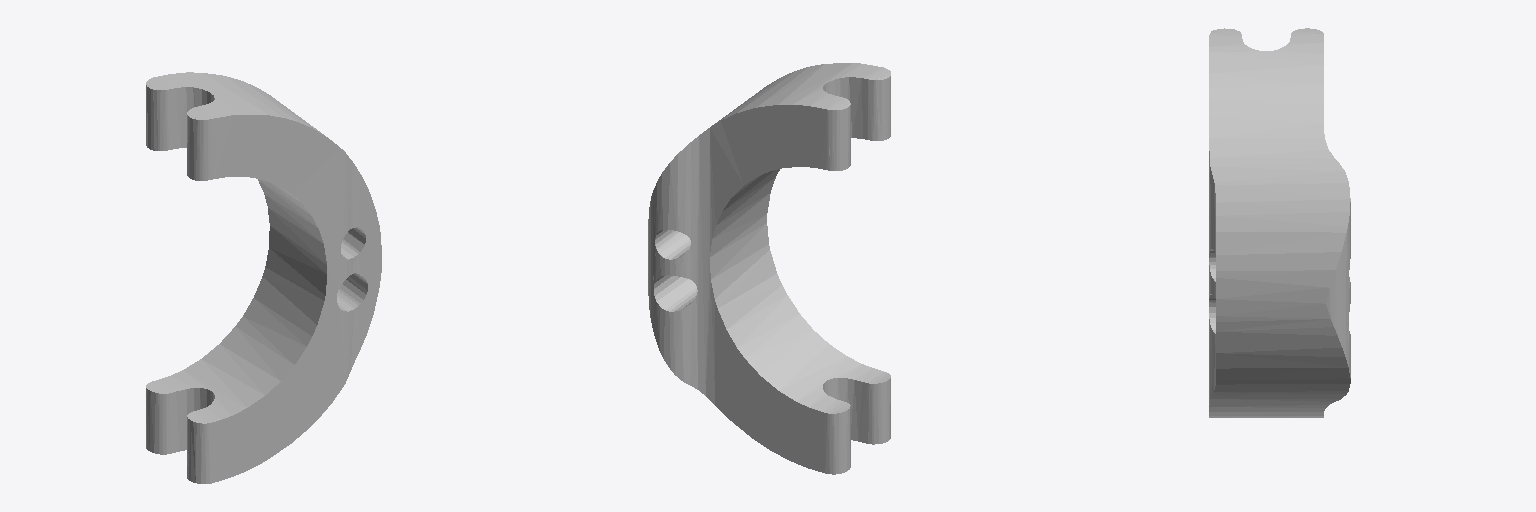
The model's file is seg12.OBJ.
The picture shows the model from 3 angles: view 1: azimuth 30°, elevation 25°; view 2: azimuth 150°, elevation 25°; view 3: azimuth 270°, elevation 25°; orthographic projection.
Visible parts, largest first — view 1: /ambf/env/seg12_seg12; view 2: /ambf/env/seg12_seg12; view 3: /ambf/env/seg12_seg12.
Part boxes in pixels (x1,y1,x2,y2): /ambf/env/seg12_seg12: (146,72,381,483); /ambf/env/seg12_seg12: (648,63,890,474); /ambf/env/seg12_seg12: (1209,28,1350,417).
Bounding box in the file's own units: 0.0032 × 0.006 × 0.0021.